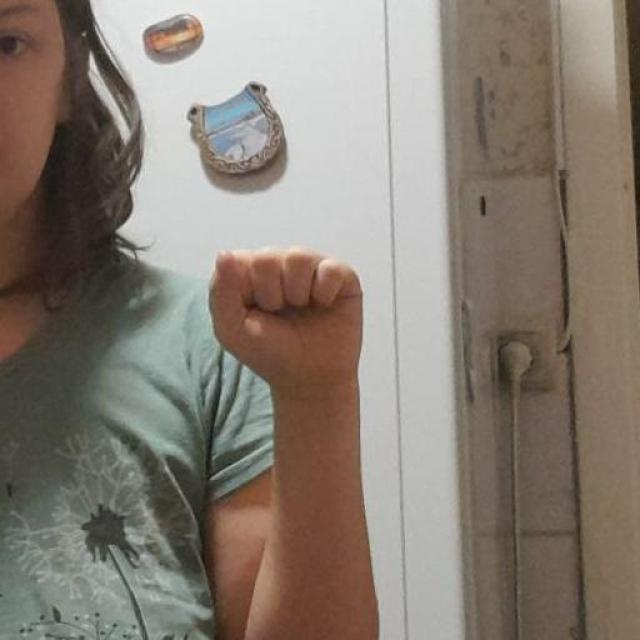hand: (209, 245, 365, 387)
